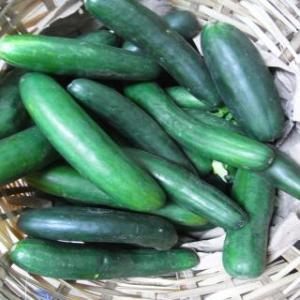cucumber: (19, 72, 164, 212), (81, 0, 226, 110), (122, 80, 278, 170), (65, 79, 201, 175), (116, 144, 250, 232), (200, 16, 288, 144), (0, 34, 164, 80), (11, 240, 199, 280), (20, 208, 180, 250), (225, 167, 276, 277)
